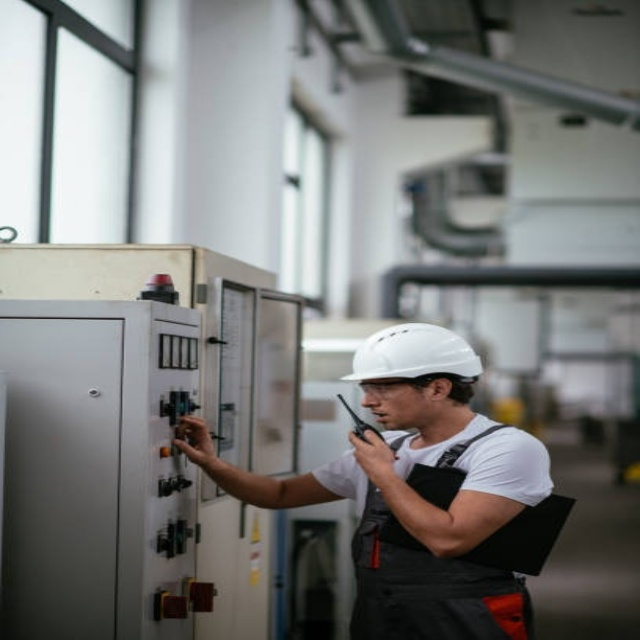Gafas: (359, 379, 423, 397)
Sin_guantes: (345, 430, 403, 476), (173, 416, 223, 464)
Sin_mascara: (367, 408, 400, 425)
